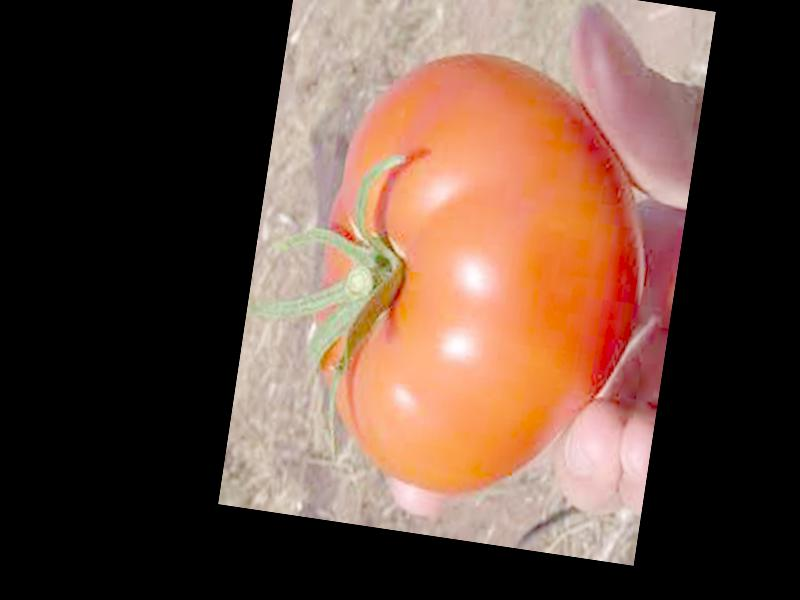Tomato: (291, 35, 669, 516)
